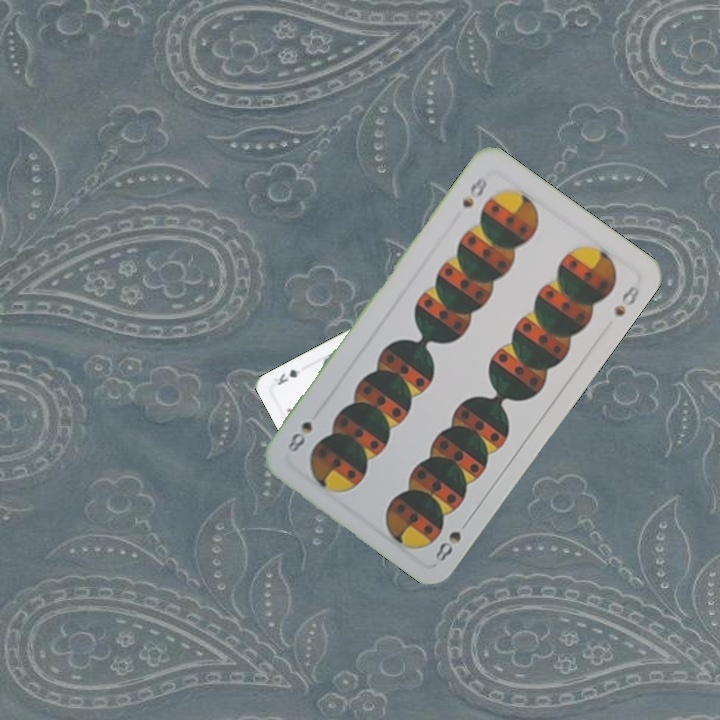S8: (430, 526, 464, 564), (458, 172, 490, 211)
